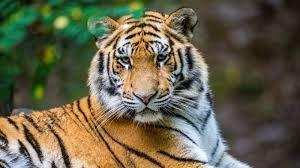Tiger: (0, 8, 251, 167)
